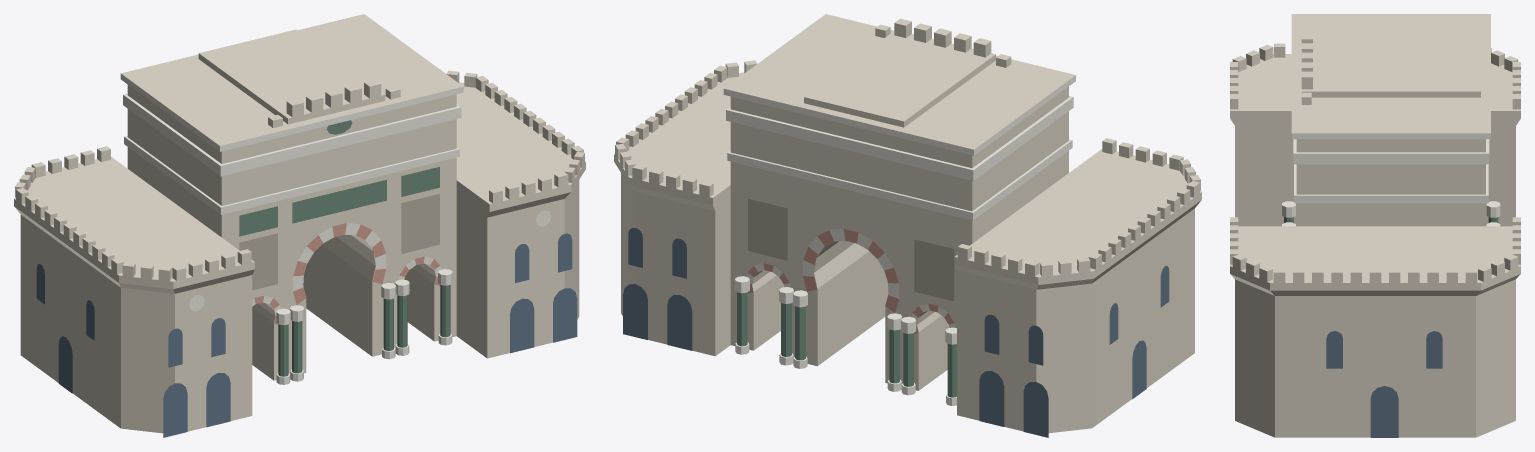
The model's file is istanbul-university-gate.glb.
3 views of the same model, side by side, from view 1: azimuth 30°, elevation 25°; view 2: azimuth 150°, elevation 25°; view 3: azimuth 270°, elevation 25° (orthographic). The views are drawn at different scales.
Parts seen in each view (by area): view 1: Istanbul University Gate; view 2: Istanbul University Gate; view 3: Istanbul University Gate.
Part boxes in pixels (x1,y1,x2,y2): Istanbul University Gate: [14, 14, 585, 437]; Istanbul University Gate: [614, 14, 1201, 437]; Istanbul University Gate: [1230, 14, 1520, 437].
Size of the model in its own units: 32.6 by 17.9 by 17.5.
